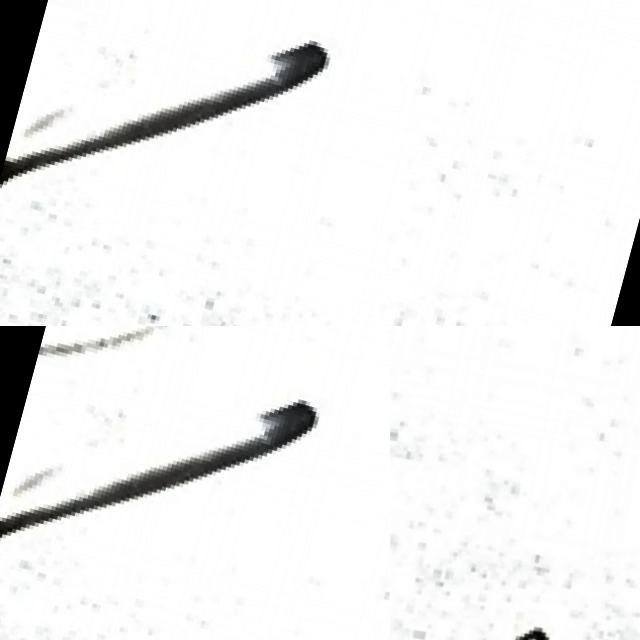drone: (390, 326, 640, 640)
